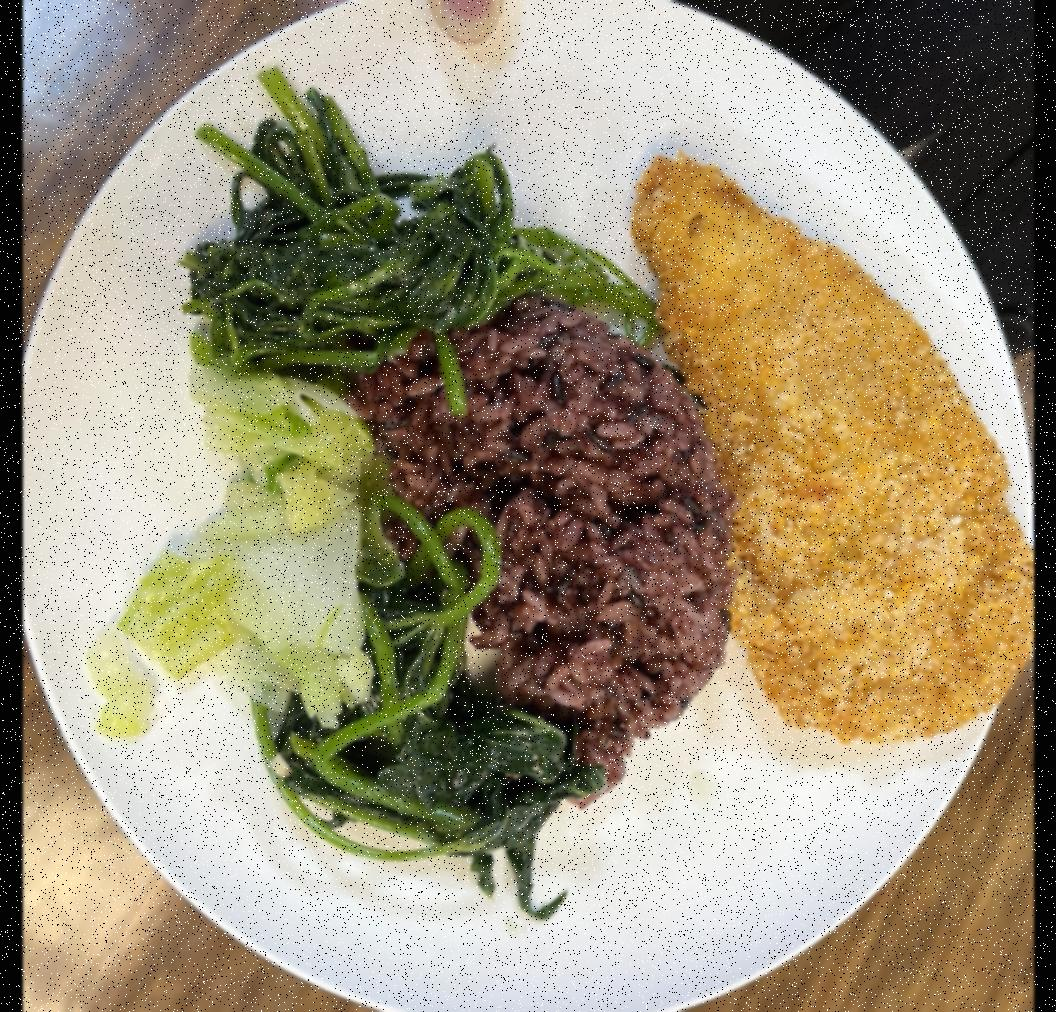chicken steak: (632, 151, 1026, 743)
plate: (22, 0, 1028, 1012)
purple rice: (377, 302, 736, 759)
side dish: (189, 77, 678, 398), (261, 479, 581, 929), (74, 375, 374, 736)
